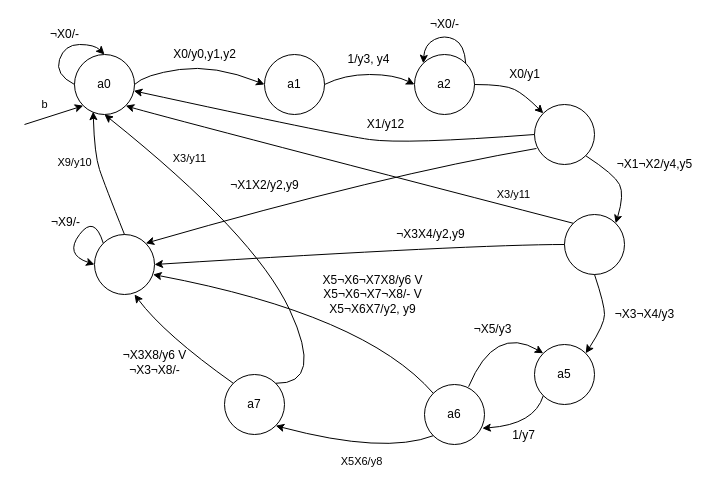
Some shapes in this 709 by 485 pixel diagram are drawn without their labels. Each missing label, with the centre of its shape:
a3: the point at 564,134
a4: the point at 594,244
a8: the point at 124,264
